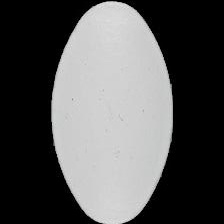55289-266: (0, 0, 224, 224)
